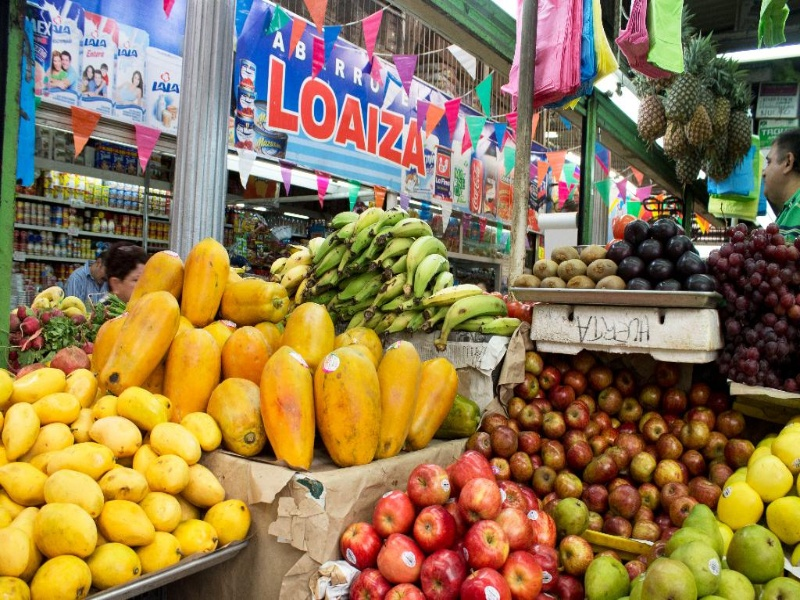banana: (327, 208, 447, 331), (425, 280, 510, 345), (272, 244, 331, 302)
